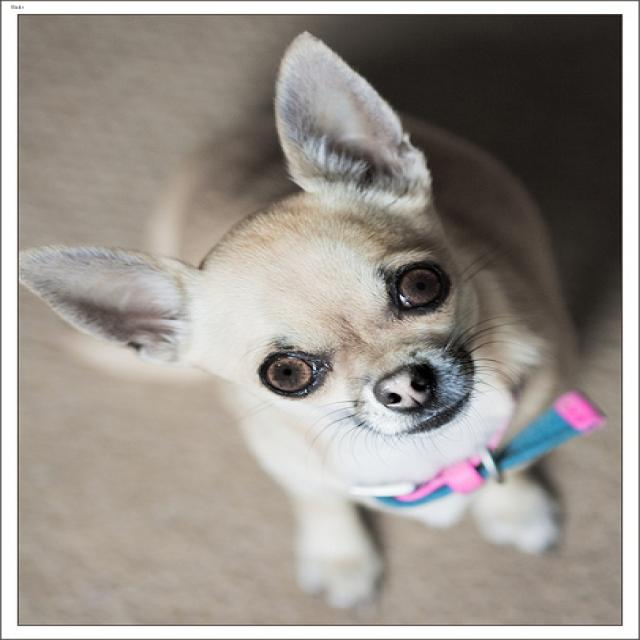dog: (18, 31, 478, 434)
